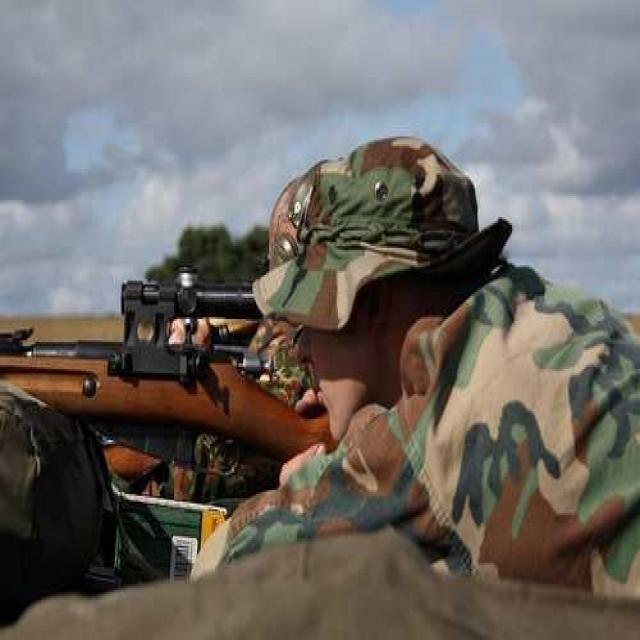weapon: (0, 211, 372, 516)
